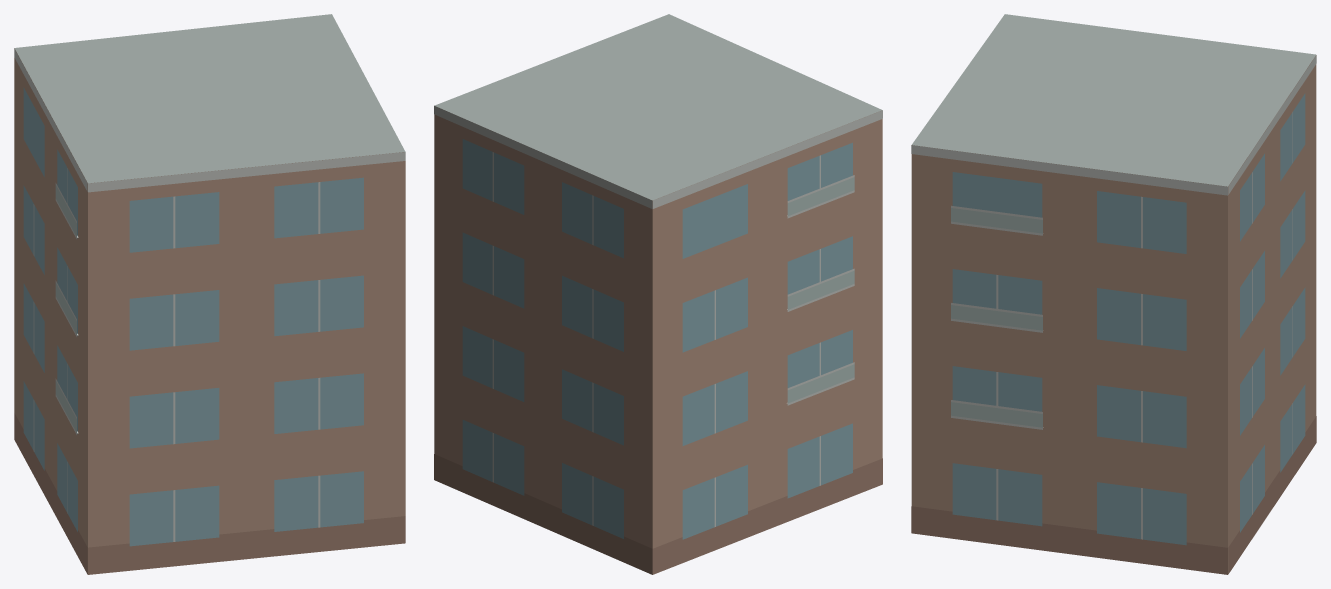
File: survey-upis-32528122.glb
3 views of the same model, side by side, from view 1: azimuth 30°, elevation 25°; view 2: azimuth 150°, elevation 25°; view 3: azimuth 270°, elevation 25° (orthographic). The views are drawn at different scales.
Parts seen in each view (by area): view 1: survey-upis-32528122.tmp; view 2: survey-upis-32528122.tmp; view 3: survey-upis-32528122.tmp.
Part boxes in pixels (x1,y1,x2,y2): survey-upis-32528122.tmp: (14,14,405,574); survey-upis-32528122.tmp: (434,14,882,574); survey-upis-32528122.tmp: (911,14,1316,574).
Bounding box in the file's own units: 10.02 × 10.5 × 9.94.
